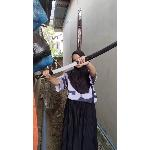Pedang: (35, 39, 118, 82)
